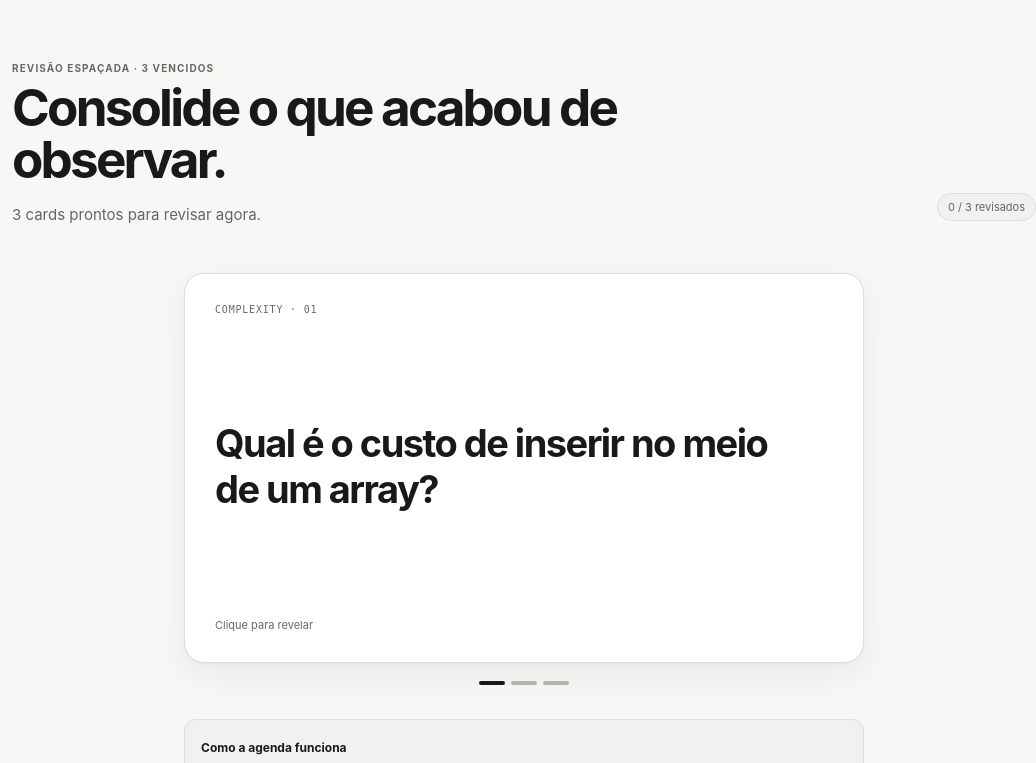
Scenario: FlashcardsPanel › continua navegável ao revisar um card intermediário da fila
This screenshot has width=1036, height=763.
What coordinates should you click on to do the following:
click the button named "Abrir card 2"
I would click on:
 (524, 683)
Its box is [511,681,537,685].
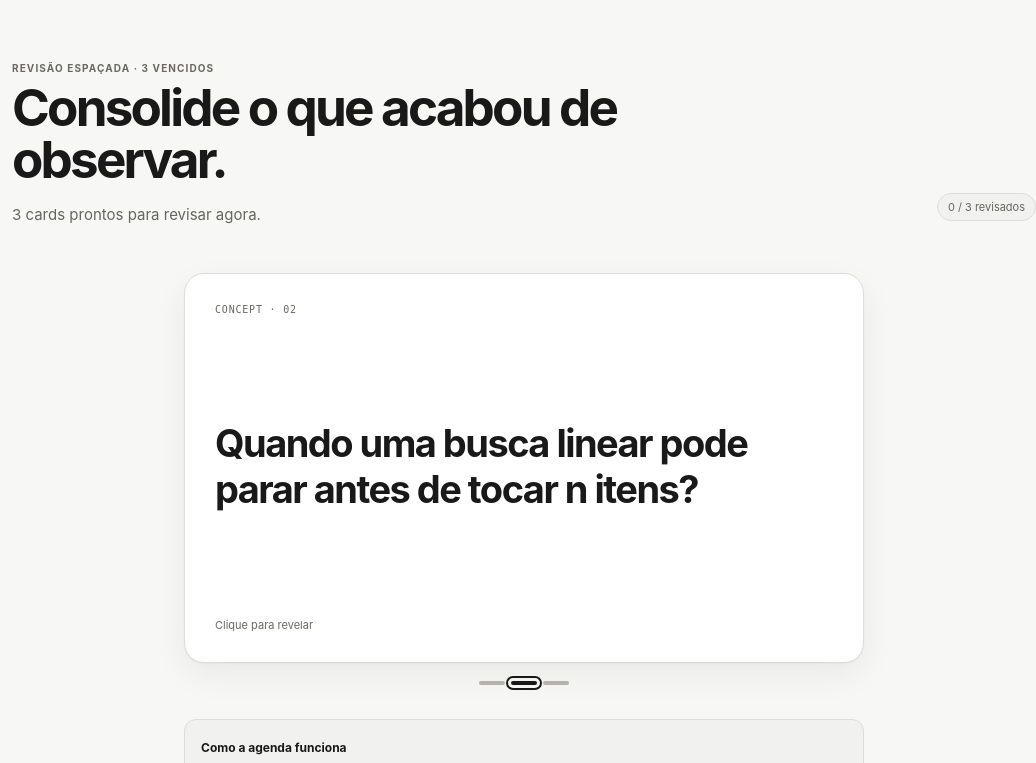
What coordinates should you click on to do the following:
click the button with aria-label "Frente do flashcard"
I would click on:
 (823, 468)
Its box is [184,273,864,663].
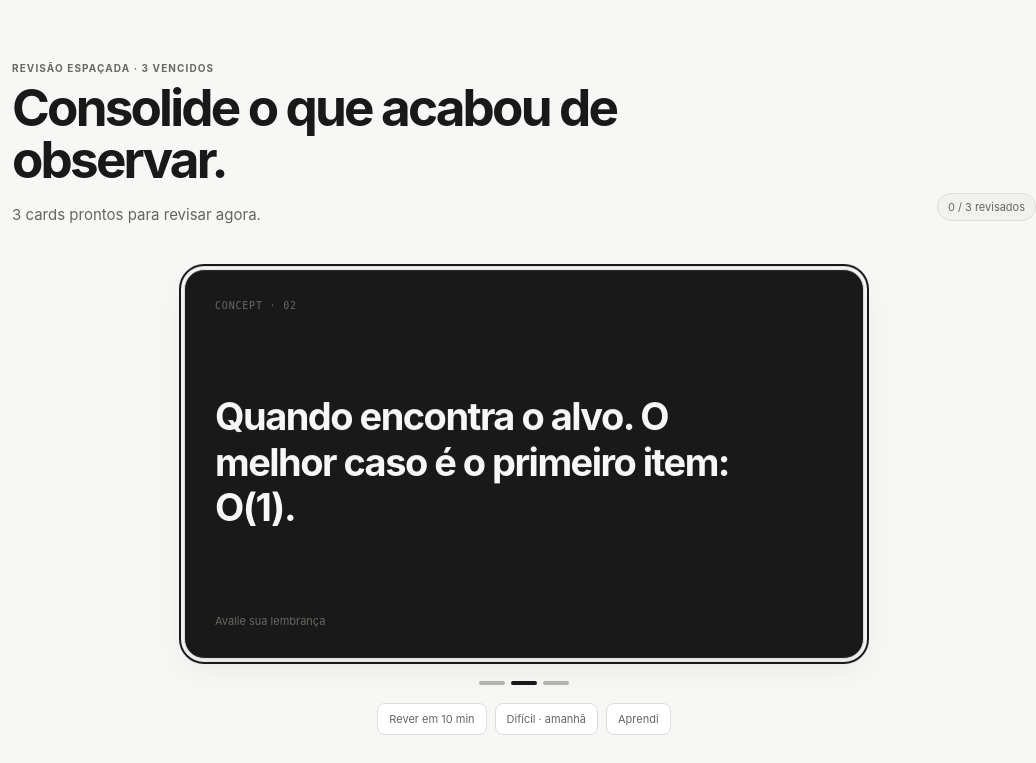
What coordinates should you click on to do the following:
click the button "Aprendi"
I would click on:
 (638, 719)
Its box is [606,703,671,735].
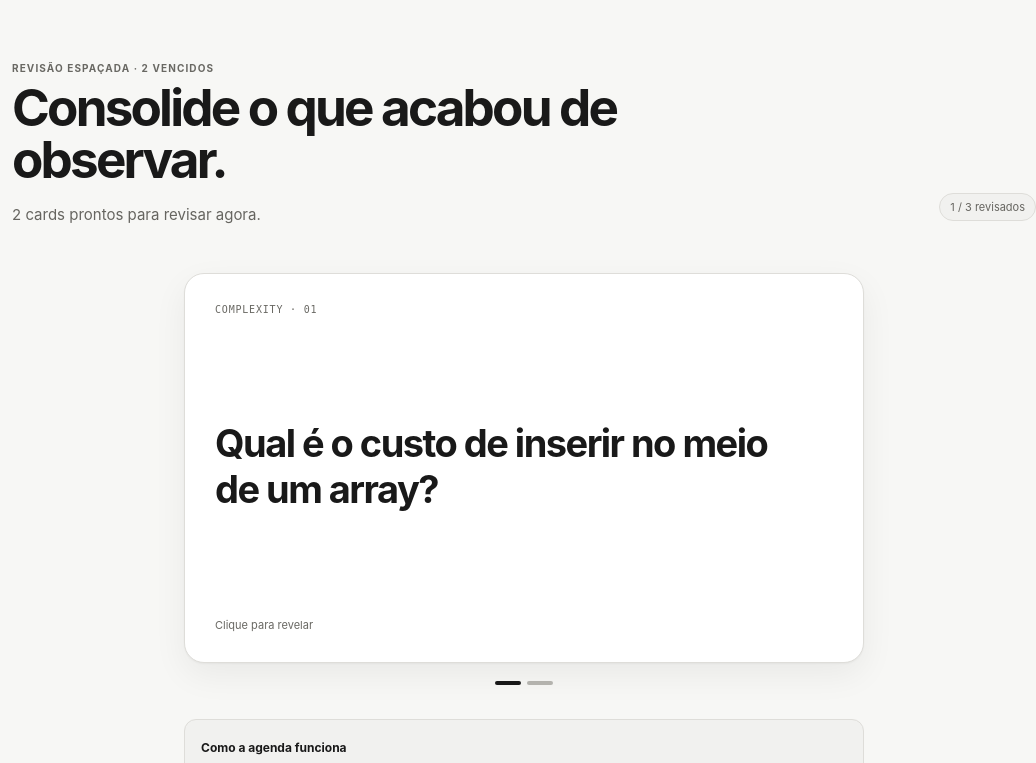
expect the text "Qual é o custo de inserir no meio de um array?" is shown: met, box [215,421,795,512]
